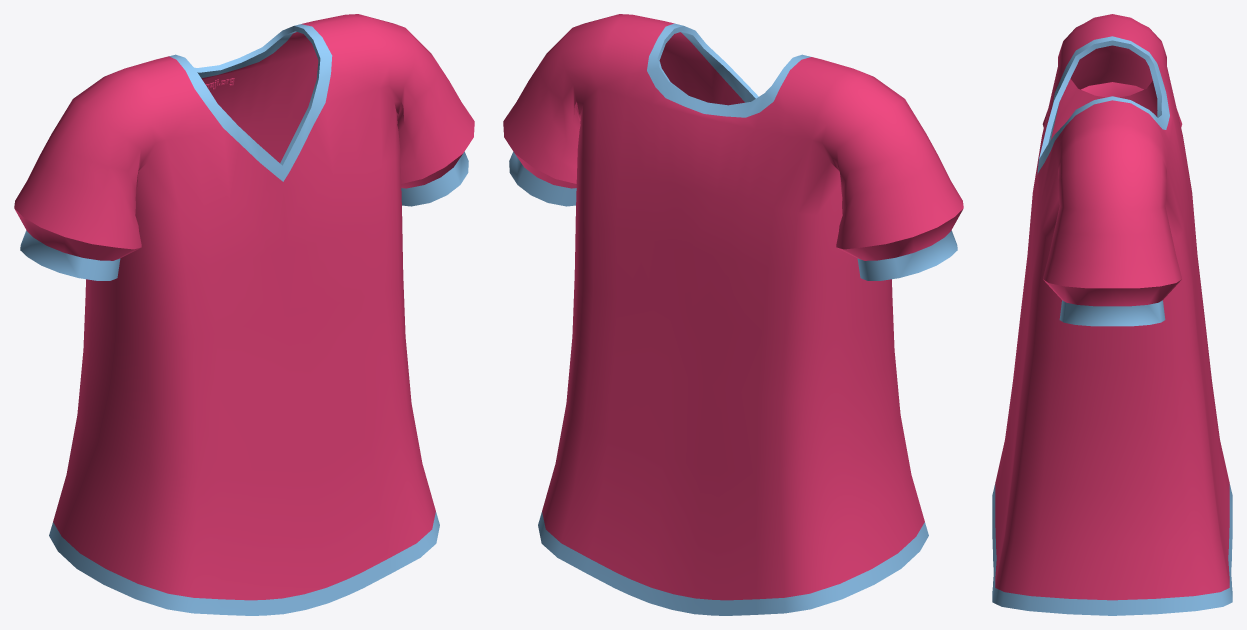
The model's file is womans_clothes.fbx.
3 views of the same model, side by side, from view 1: azimuth 30°, elevation 25°; view 2: azimuth 150°, elevation 25°; view 3: azimuth 270°, elevation 25° (orthographic). The views are drawn at different scales.
Parts seen in each view (by area): view 1: Circle.1804; view 2: Circle.1804; view 3: Circle.1804.
Boxes of the visible parts, x1=… form: Circle.1804: x1=14, y1=14, x2=474, y2=615; Circle.1804: x1=503, y1=14, x2=963, y2=615; Circle.1804: x1=992, y1=14, x2=1232, y2=615.
Size of the model in its own units: 179 by 202 by 86.95.
1 material, 1 textured.
